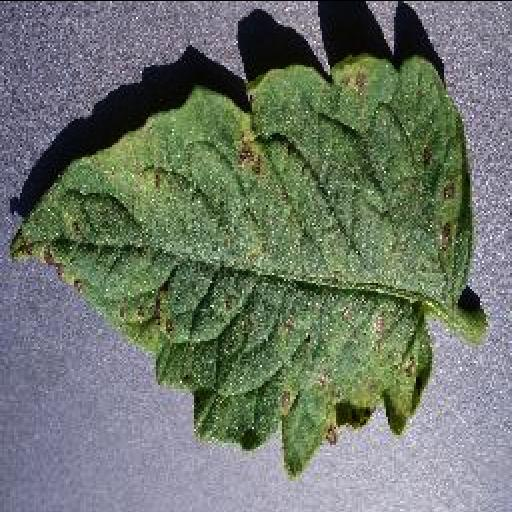disease_tomato: (6, 50, 472, 472)
